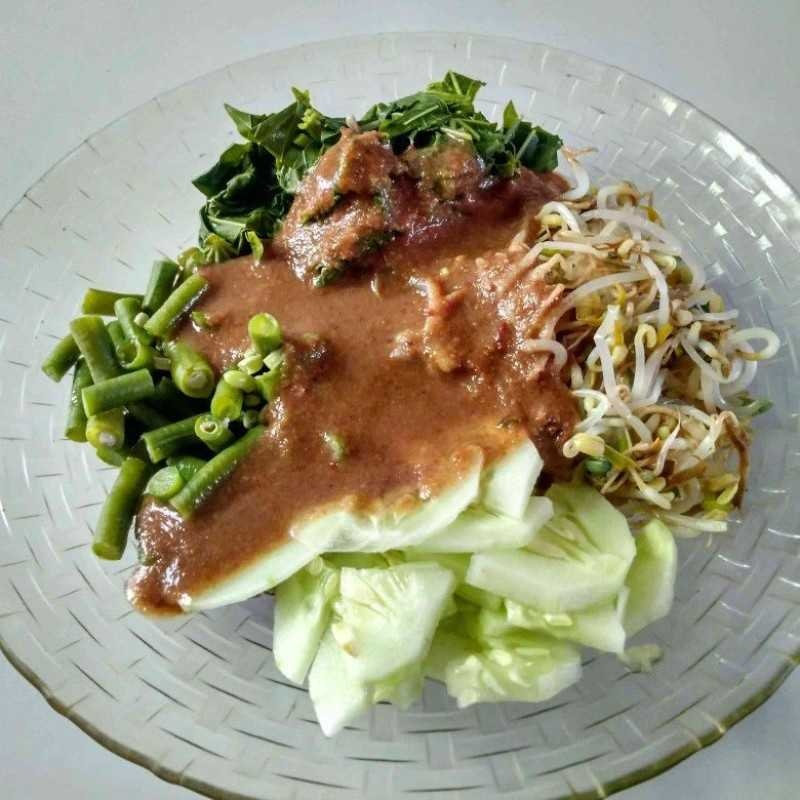pecel: (76, 98, 772, 742)
